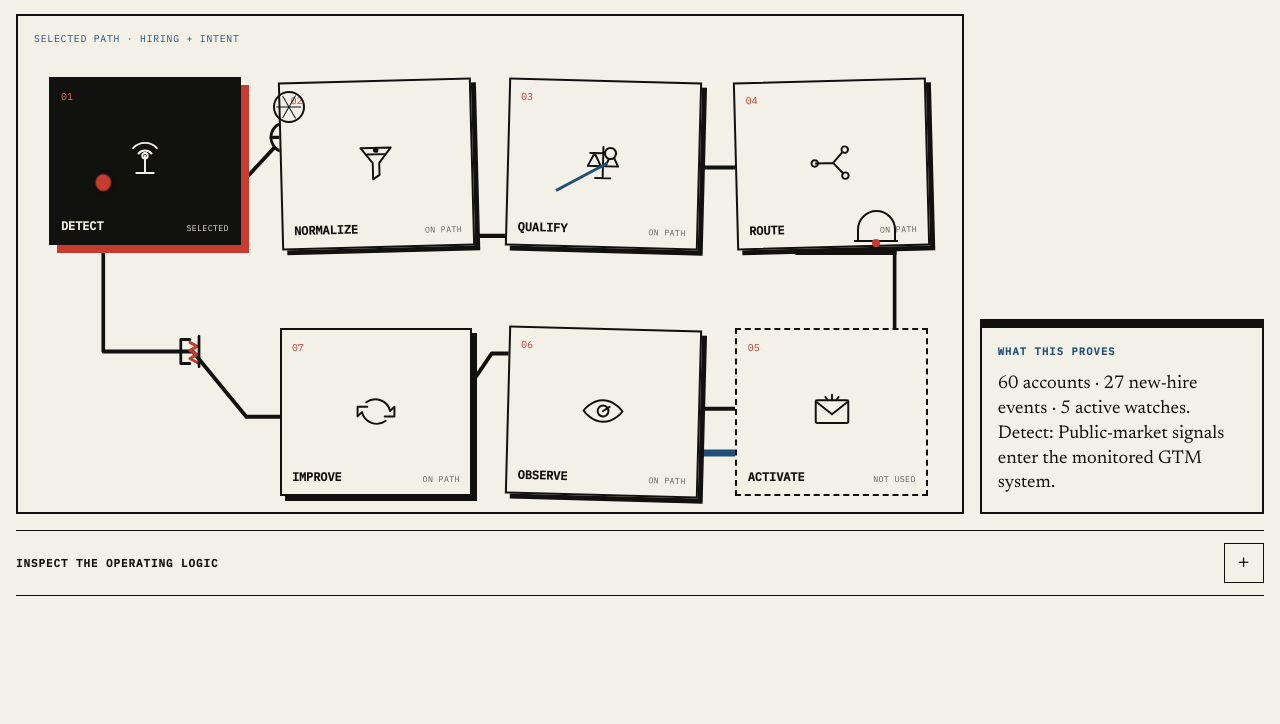
ControlRoom › keeps production judgment visible without duplicating the workflow registry
The width and height of the screenshot is (1280, 724).
(page scrolled)
Step 1. Click the text "Inspect the operating logic" → [117, 563], box [16,556,219,570]
(page scrolled)
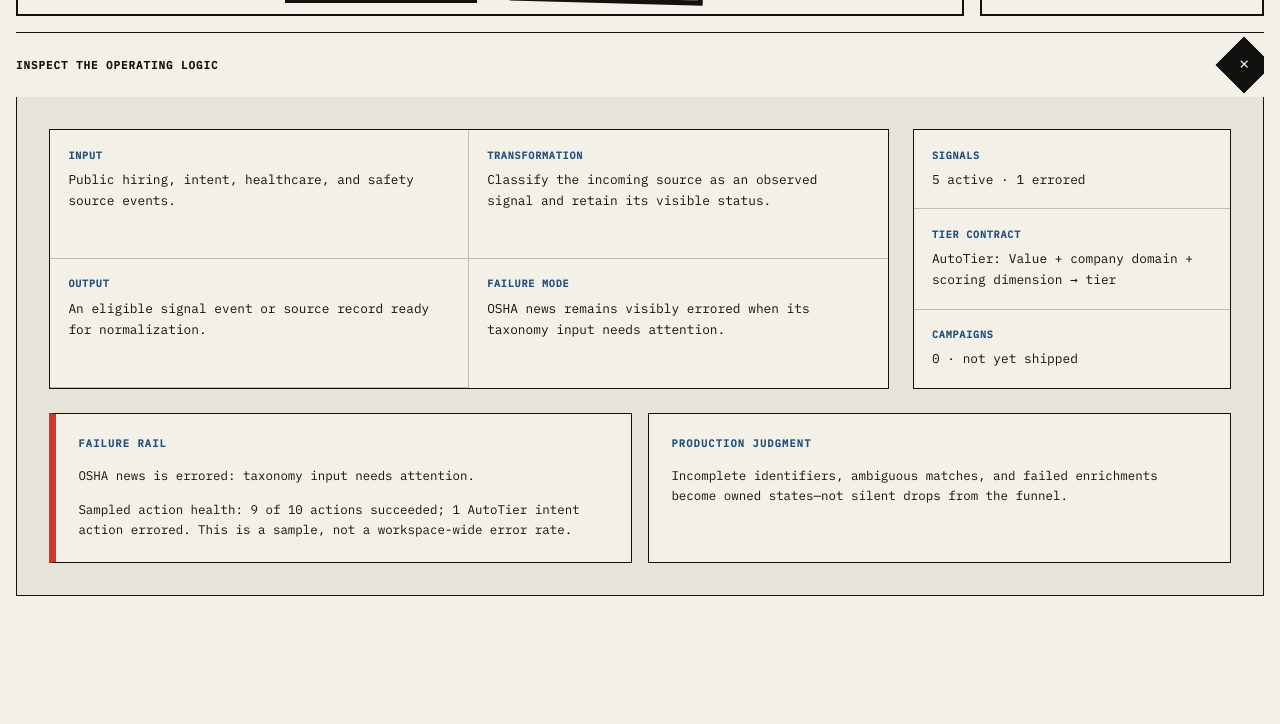
Now the heading "Production judgment" is shown, box [671,436,812,450]
Now the text "owned states—not silent drops" is shown, box [671,467,1158,503]
